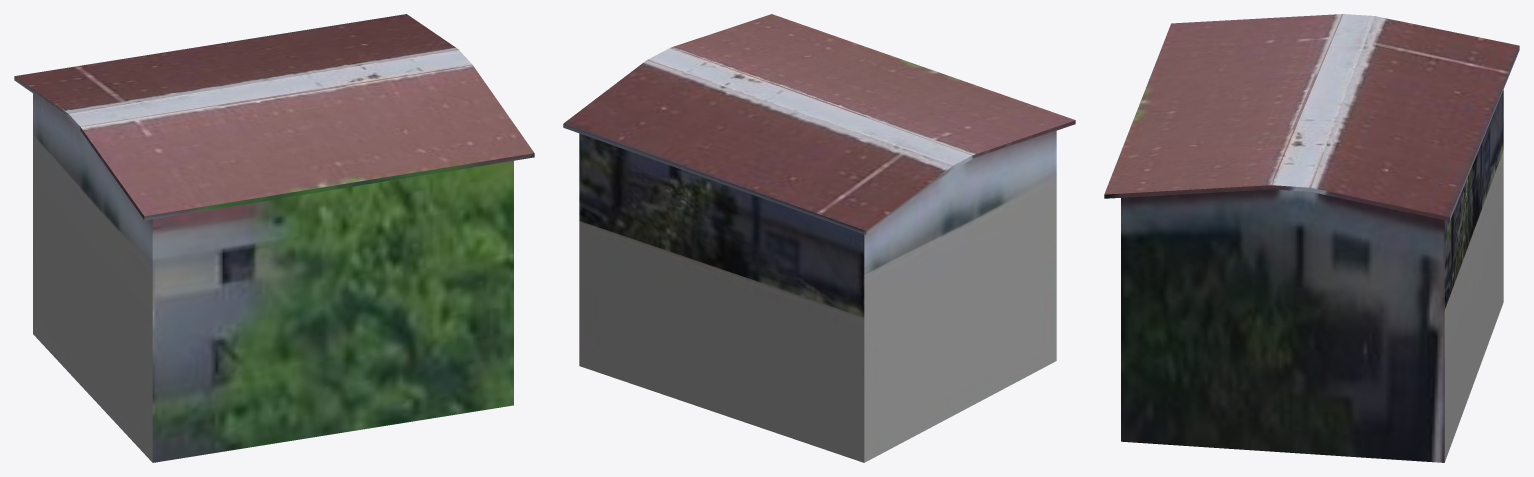
3 views of the same model, side by side, from view 1: azimuth 30°, elevation 25°; view 2: azimuth 150°, elevation 25°; view 3: azimuth 270°, elevation 25° (orthographic). The views are drawn at different scales.
Parts seen in each view (by area): view 1: B281784039701062A0; view 2: B281784039701062A0; view 3: B281784039701062A0.
Part boxes in pixels (x1=…): B281784039701062A0: x1=14, y1=14, x2=534, y2=462; B281784039701062A0: x1=563, y1=14, x2=1075, y2=462; B281784039701062A0: x1=1104, y1=14, x2=1519, y2=462.
Size of the model in its own units: 7.97 by 5.22 by 7.2.
1 material, 1 textured.
